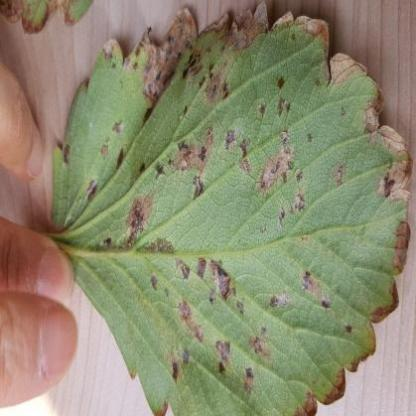Strawberry_Angular_LeafSpot: (50, 0, 414, 415)
